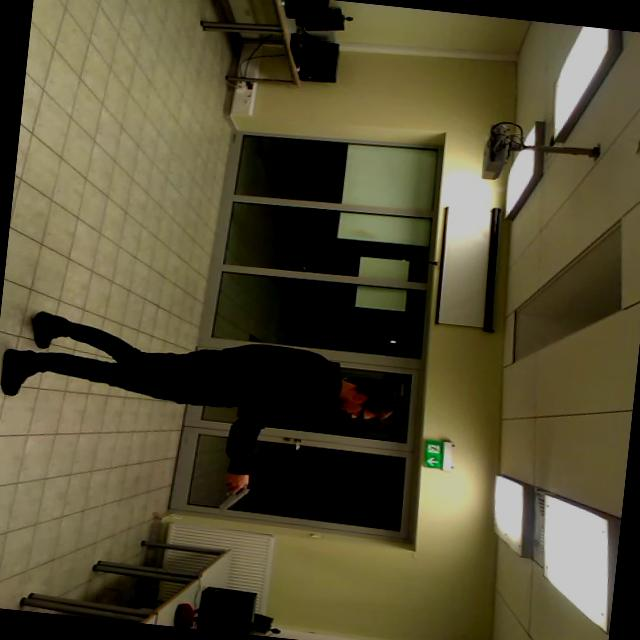handgun: (204, 472, 253, 524)
